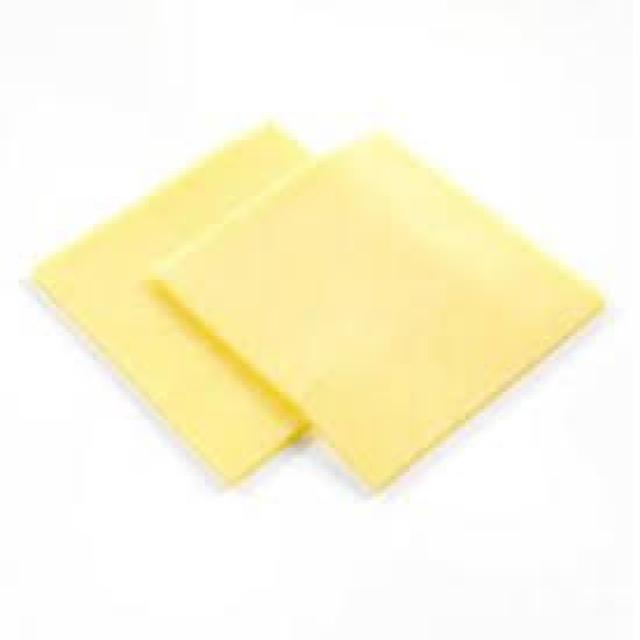slicecheese: (34, 121, 606, 489)
